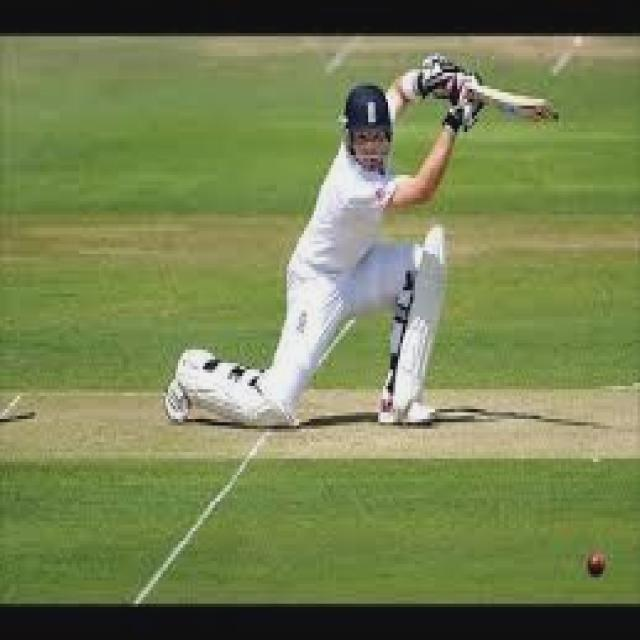bat: (454, 81, 564, 135)
toe: (529, 93, 559, 129)
